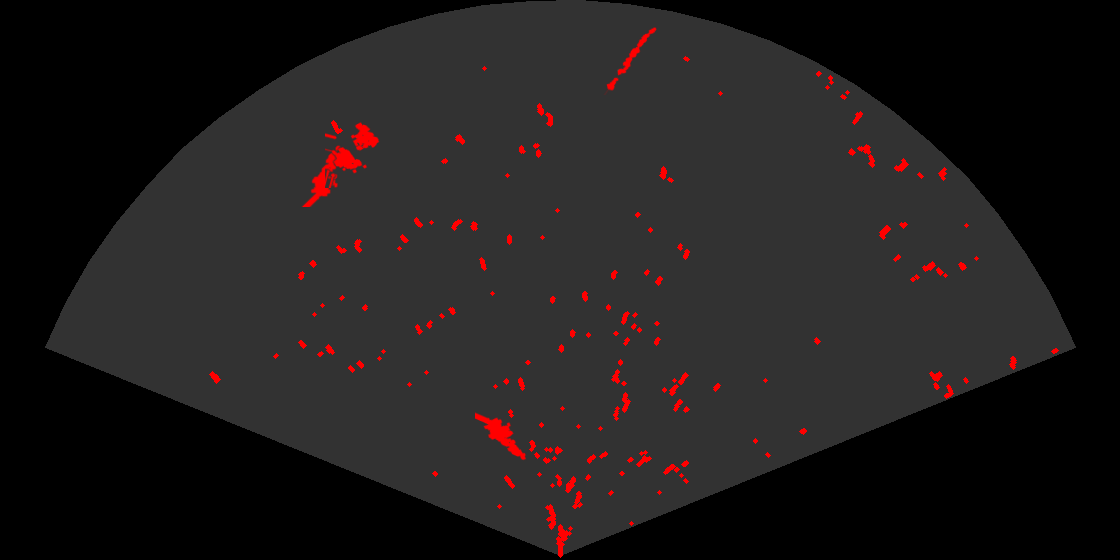cage: (325, 120, 381, 188)
chain: (602, 26, 658, 95)
frogman: (300, 144, 343, 207), (475, 411, 528, 462)
